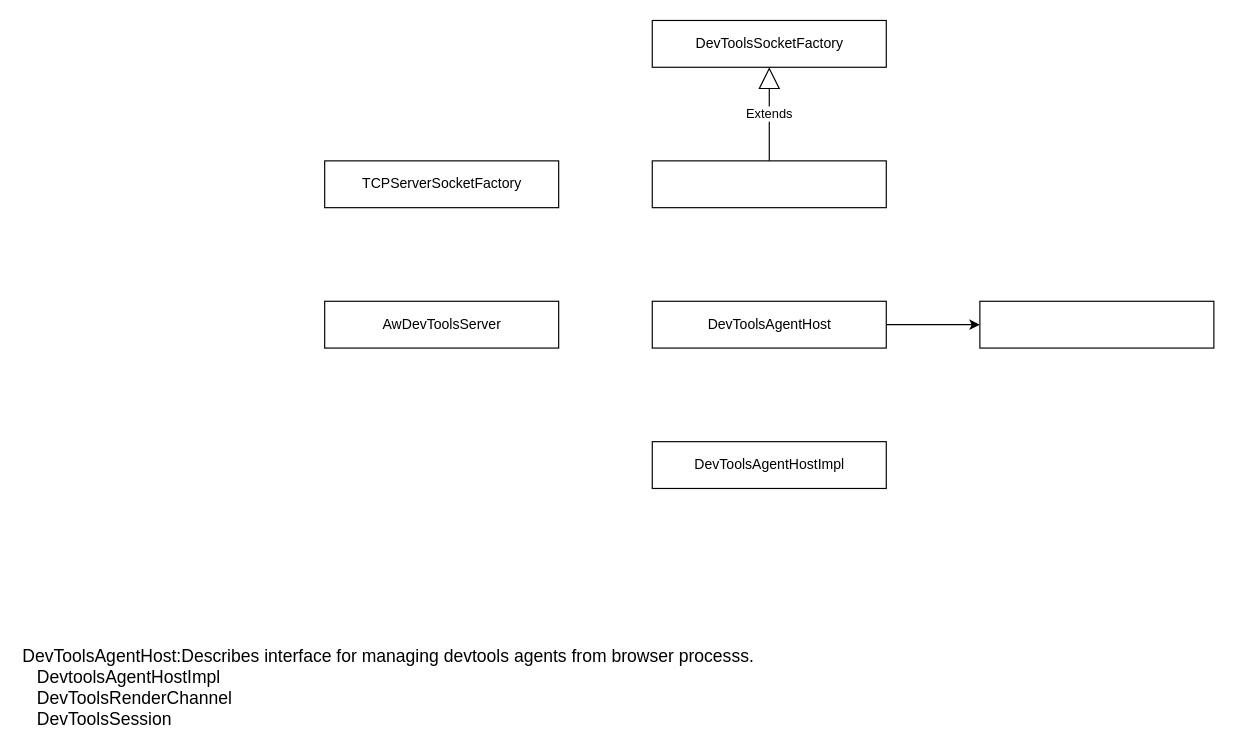
Image size: 1234x755. Some labels were removed from this diagram. The shapes that lost their labels are listed below. From the top down, each one's centre as x and y in pixels, then its label:
At (x=768, y=184): "UnixDomainServerSocketFactory".
At (x=1096, y=324): "DevToolsManager".
